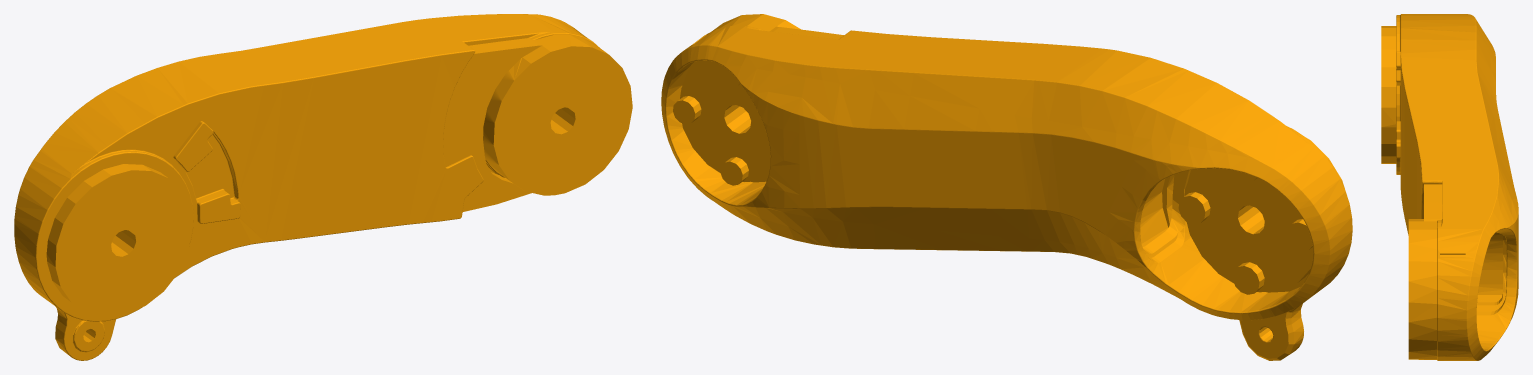
3 renders of one model, left to right at view 1: azimuth 30°, elevation 25°; view 2: azimuth 150°, elevation 25°; view 3: azimuth 270°, elevation 25°, orthographic. The views are drawn at different scales.
Parts seen in each view (by area): view 1: node; view 2: node; view 3: node.
Part boxes in pixels (<box>): node: <box>14,14,632,360</box>; node: <box>661,14,1352,360</box>; node: <box>1381,14,1518,360</box>.
Bounding box in the file's own units: 0.1435 × 0.0547 × 0.0322.
